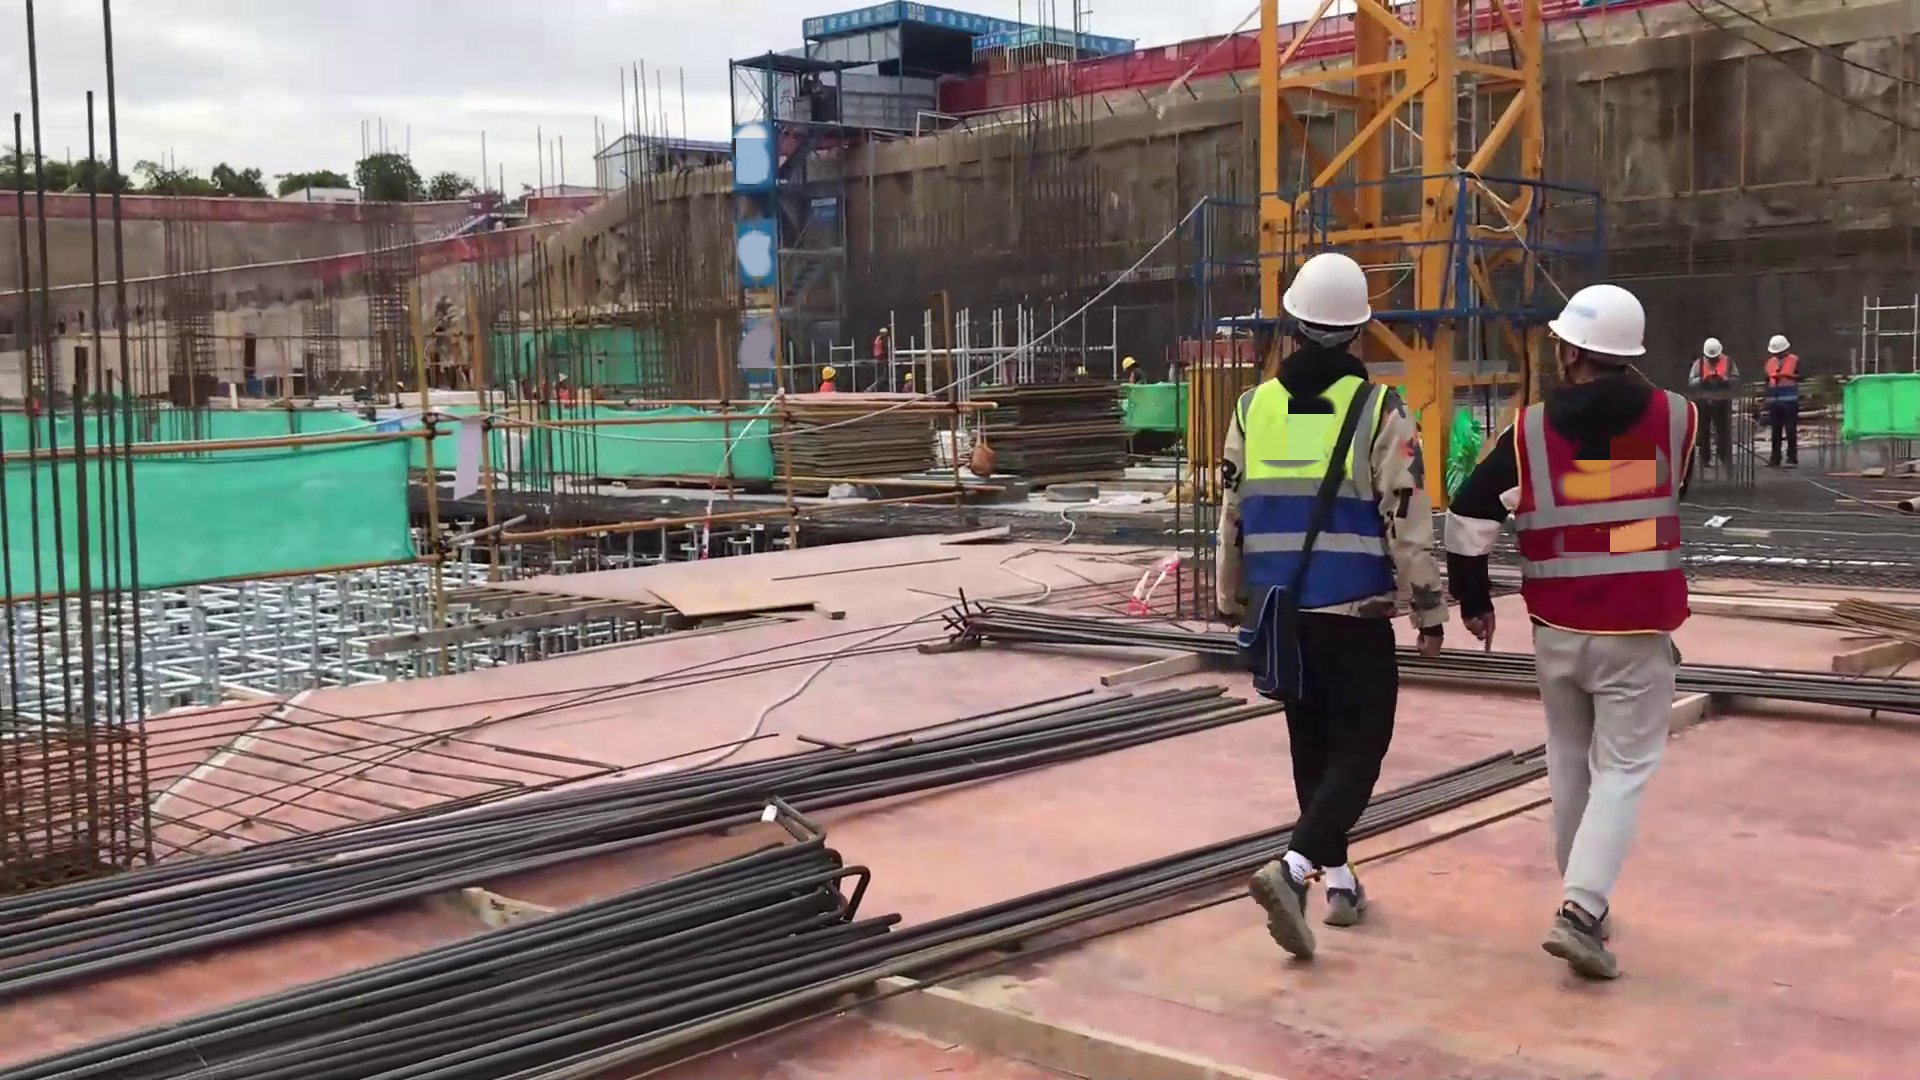helmet: (1548, 285, 1647, 357), (1281, 254, 1372, 323), (1768, 335, 1791, 354), (1703, 337, 1722, 358), (822, 367, 836, 380), (1123, 357, 1136, 369), (879, 328, 887, 333)
person: (1445, 279, 1704, 980), (1206, 248, 1447, 964), (1687, 336, 1739, 481), (1763, 332, 1803, 471), (873, 327, 887, 387), (1121, 355, 1148, 383), (819, 366, 838, 393)
vest: (1233, 375, 1400, 645), (1517, 388, 1695, 636), (1763, 354, 1799, 407), (1699, 355, 1731, 403)
